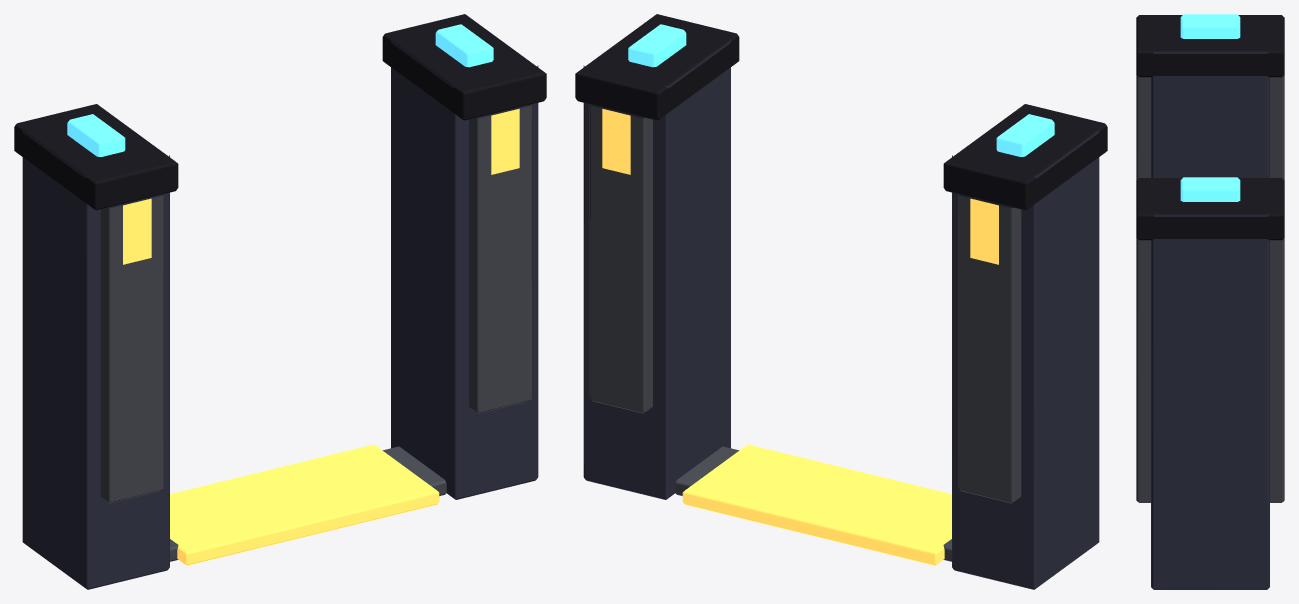
File: int.door.blast.cut.glb
3 renders of one model, left to right at view 1: azimuth 30°, elevation 25°; view 2: azimuth 150°, elevation 25°; view 3: azimuth 270°, elevation 25°, orthographic. The views are drawn at different scales.
Parts seen in each view (by area): view 1: int.door.blast.cut; view 2: int.door.blast.cut; view 3: int.door.blast.cut.
Part boxes in pixels (bbox=[...]): int.door.blast.cut: bbox=[14, 14, 546, 589]; int.door.blast.cut: bbox=[575, 14, 1107, 589]; int.door.blast.cut: bbox=[1136, 14, 1284, 589].
Bounding box in the file's own units: 2 × 1.81 × 0.6255.
